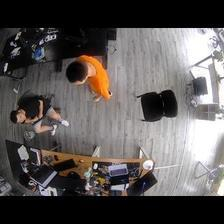normal: (64, 55, 116, 102), (12, 94, 66, 138)
